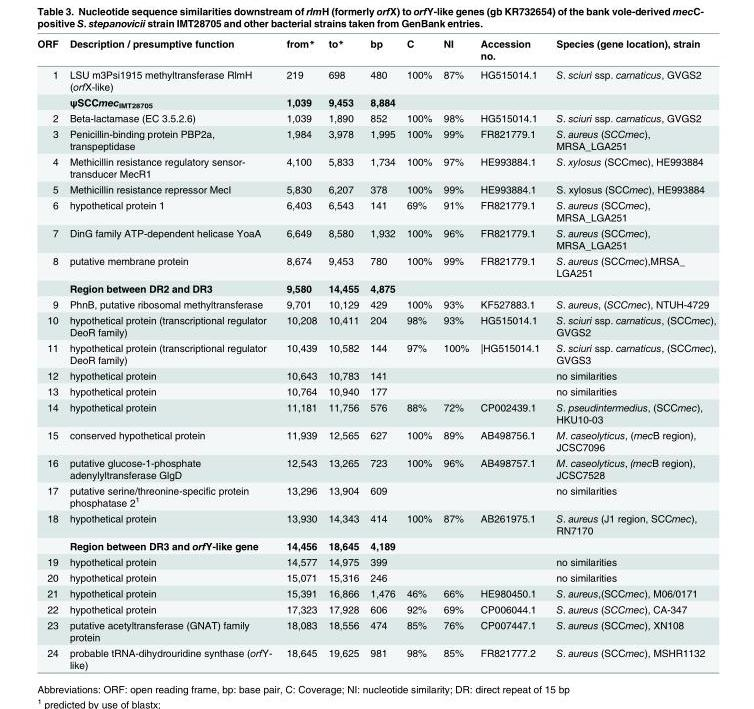table: (36, 37, 715, 670)
table column: (63, 37, 278, 670), (547, 37, 715, 670), (474, 37, 547, 670), (278, 37, 322, 670), (322, 37, 363, 670), (363, 37, 400, 670), (400, 37, 437, 670), (437, 37, 474, 670), (36, 37, 63, 670)
table column header: (36, 37, 715, 64)
table row: (36, 64, 715, 93), (36, 125, 715, 153), (36, 153, 715, 181), (36, 196, 715, 224), (36, 224, 715, 252), (36, 252, 715, 280), (36, 311, 715, 339), (36, 339, 715, 367), (36, 398, 715, 426), (36, 426, 715, 454), (36, 454, 715, 482), (36, 509, 715, 537), (36, 616, 715, 644), (36, 37, 715, 64), (36, 482, 715, 509), (36, 644, 715, 670), (36, 93, 715, 110), (36, 295, 715, 311), (36, 367, 715, 383), (36, 537, 715, 553), (36, 553, 715, 569), (36, 569, 715, 585), (36, 585, 715, 601), (36, 110, 715, 125), (36, 181, 715, 196), (36, 280, 715, 295), (36, 383, 715, 398), (36, 601, 715, 616)
table spanning cell: (36, 64, 63, 110), (36, 509, 63, 553), (36, 252, 63, 295)
